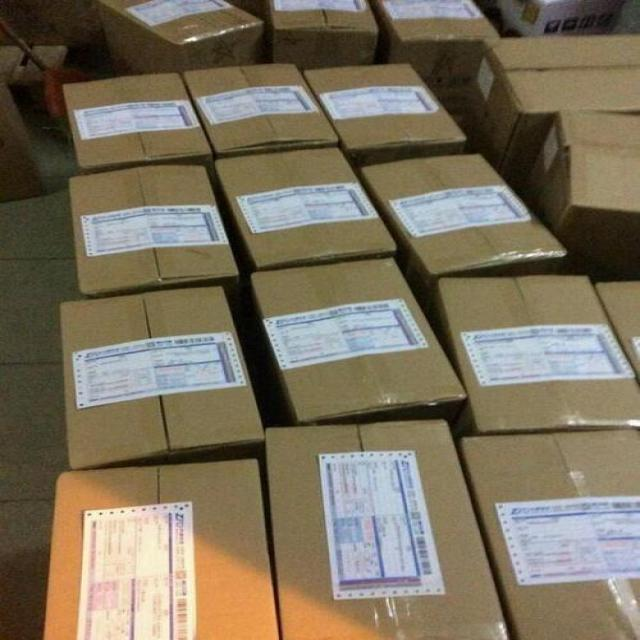box: (263, 411, 512, 640), (44, 460, 280, 640), (54, 283, 270, 468), (255, 247, 460, 432), (461, 430, 640, 640), (437, 269, 640, 434), (366, 154, 577, 278), (65, 163, 246, 295), (210, 154, 407, 270), (472, 39, 640, 154), (185, 56, 337, 165), (58, 66, 206, 172), (534, 105, 640, 246), (85, 0, 272, 65), (264, 0, 387, 68), (386, 1, 489, 74)
